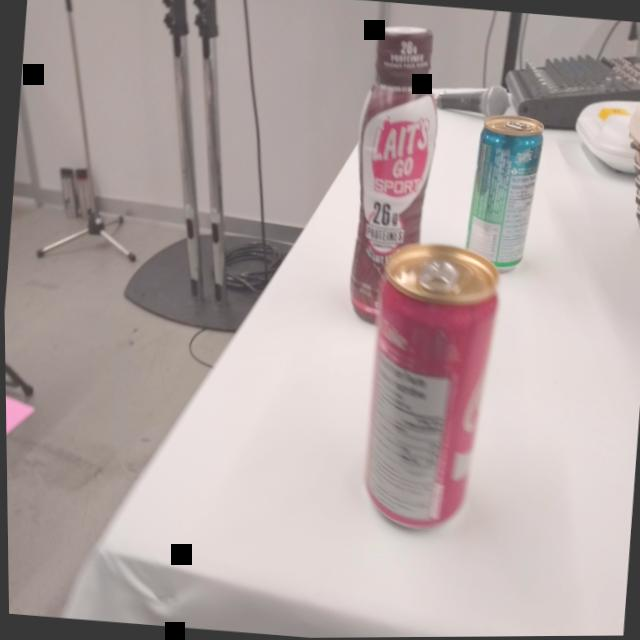chocolate_drink: (336, 21, 448, 291)
coke: (345, 232, 511, 543)
sprite: (457, 113, 547, 284)
